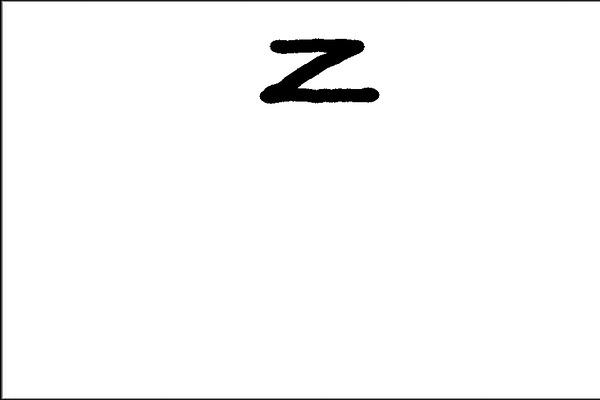Z: (258, 29, 383, 116)
